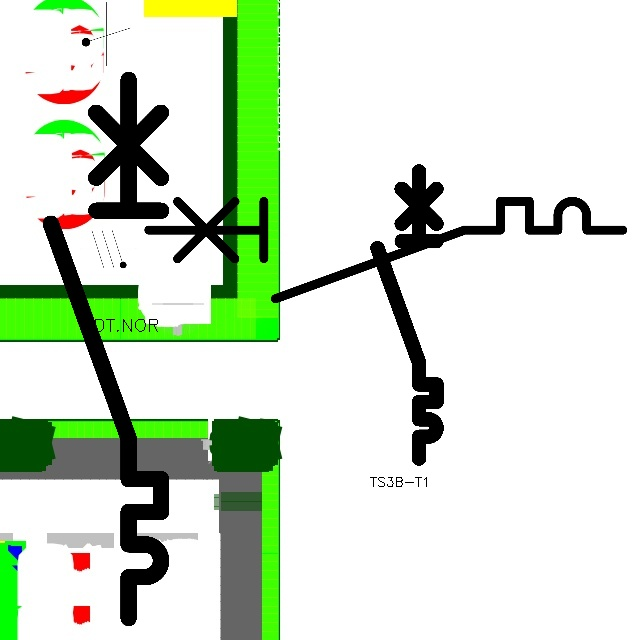interruptor_termomagnetico: (37, 66, 175, 632), (136, 189, 635, 311), (370, 164, 444, 466)
